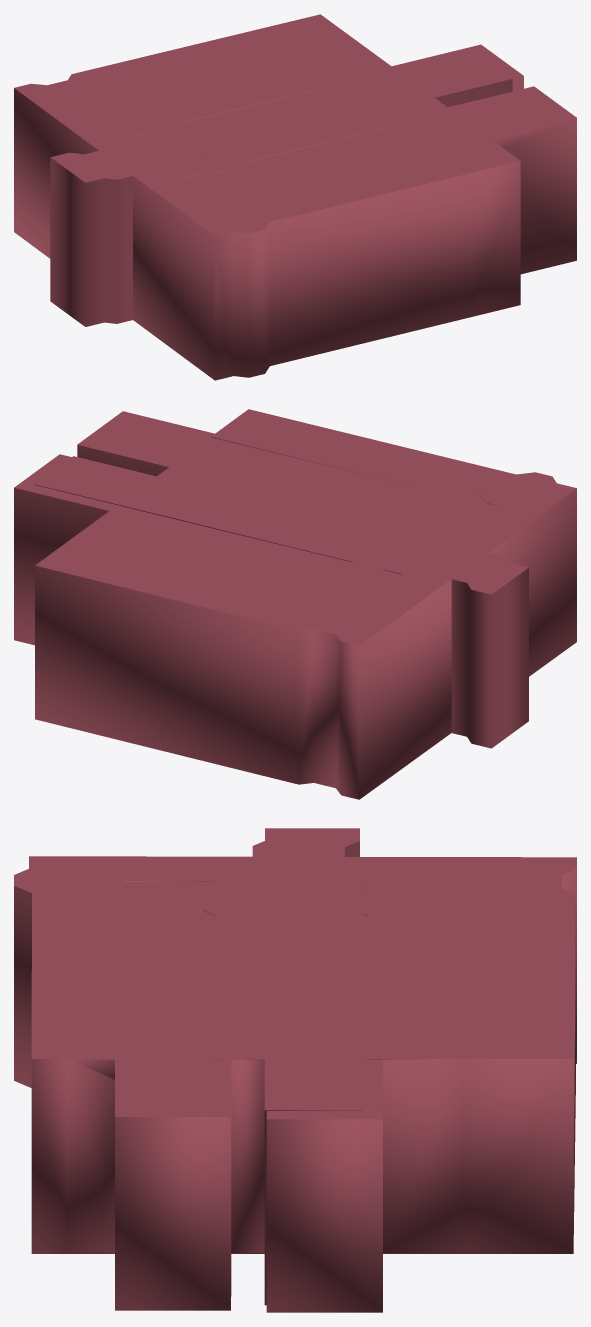
The picture shows the model from 3 angles, top to bottom: view 1: azimuth 30°, elevation 25°; view 2: azimuth 150°, elevation 25°; view 3: azimuth 270°, elevation 25°; orthographic projection. The views are drawn at different scales.
Parts seen in each view (by area): view 1: Curve.041, Curve.042; view 2: Curve.041, Curve.042; view 3: Curve.041, Curve.042.
Boxes of the visible parts, <box> form: Curve.041: <box>14,14,576,380</box>; Curve.042: <box>50,52,512,326</box>; Curve.041: <box>14,409,576,799</box>; Curve.042: <box>35,456,528,748</box>; Curve.041: <box>14,856,576,1312</box>; Curve.042: <box>252,828,362,1305</box>.
Size of the model in its own units: 6.37 by 2 by 5.23.
